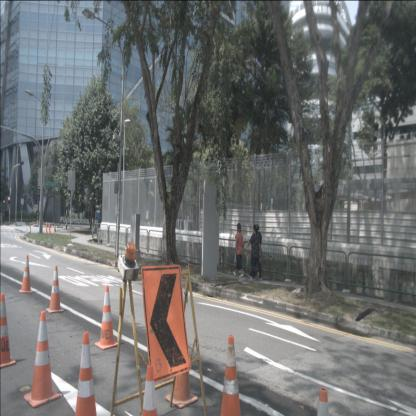human-pedestrian-adult: (244, 224, 262, 280), (247, 224, 263, 280), (233, 223, 244, 277)
movable_object-trafficcone: (23, 310, 61, 409), (165, 320, 198, 410), (74, 331, 98, 415), (221, 334, 242, 416), (94, 284, 119, 351), (0, 292, 17, 370), (46, 265, 64, 314), (142, 364, 158, 416), (19, 254, 33, 294), (316, 388, 330, 416), (44, 222, 48, 233), (48, 222, 51, 233), (54, 223, 56, 234)
